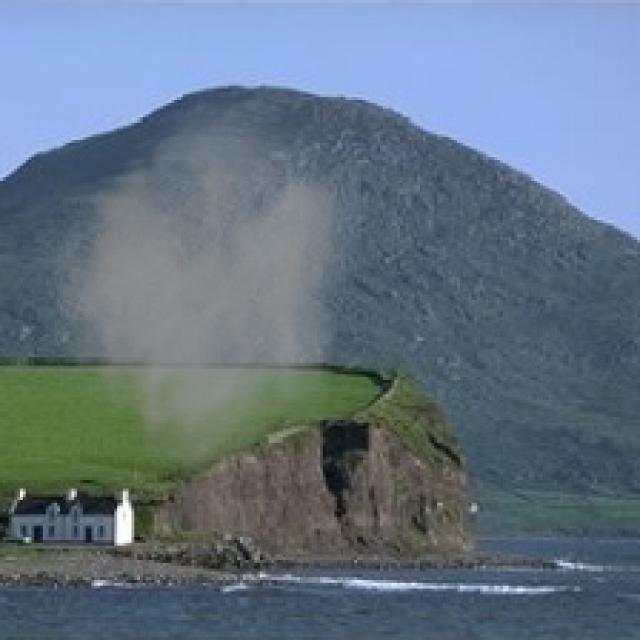Smoke: (17, 80, 360, 492)
